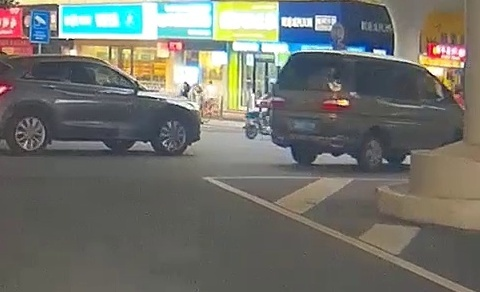L_light: (271, 96, 286, 108)
R_light: (321, 99, 351, 111)
T_light: (307, 52, 322, 57)
night-right: (270, 50, 354, 172)
